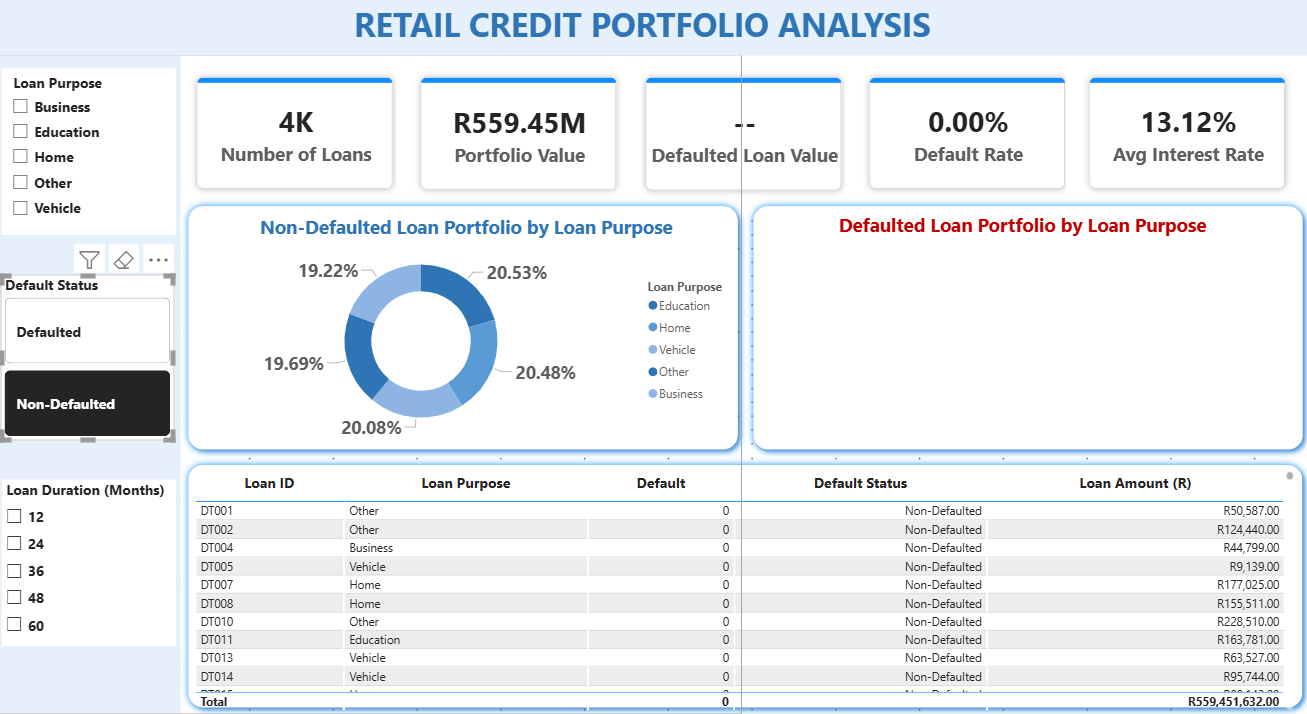

What the dashboard file says about the page in this screenshot:
{"tool":"powerbi","page":{"name":"Summary","canvas":[1500,820],"ordinal":0},"visuals":[{"type":"group","id":"g1","title":"Group 1","box":[199.8,64.9,1300.4,185.6],"z":0},{"type":"cardVisual","fields":{"Data":["Sum(Loan.LoanAmount)"]},"box":[712.7,65,279.9,185.5],"z":0,"group":"g1"},{"type":"cardVisual","fields":{"Data":["CountNonNull(Loan.LoanID)"]},"box":[199.8,65,279.8,183.3],"z":1000,"group":"g1"},{"type":"shape","box":[854.2,229.4,646,296.1],"z":1000},{"type":"cardVisual","fields":{"Data":["Sum(Loan.LoanAmount)"]},"box":[455.5,64.9,279.8,184.9],"z":2000,"group":"g1"},{"type":"shape","box":[208.3,229.4,646,296.1],"z":2000},{"type":"shape","box":[0,0.9,1500,65.5],"z":3000,"group":"g3"},{"type":"cardVisual","fields":{"Data":["Avg(Loan.Default)"]},"box":[968.1,65,279.9,183.9],"z":3000,"group":"g1"},{"type":"cardVisual","fields":{"Data":["Avg(Loan.InterestRate_Decimal)"]},"box":[1220.3,65,279.9,183.9],"z":4000,"group":"g1"},{"type":"donutChart","title":"Non-Defaulted Loan Portfolio by Loan Purpose","fields":{"Category":["Loan.LoanPurpose"],"Y":["CountNonNull(Loan.LoanID)"]},"box":[220.3,247.6,630.4,263.7],"z":4000,"group":"g2"},{"type":"textbox","box":[95,1,1281.2,72.5],"z":5000,"group":"g3"},{"type":"shape","box":[0,65.9,209,754.2],"z":6000,"group":"g2"},{"type":"donutChart","title":"Defaulted Loan Portfolio by Loan Purpose","fields":{"Category":["Loan.LoanPurpose"],"Y":["CountNonNull(Loan.LoanID)"]},"box":[855.5,246,630.4,263.7],"z":7000},{"type":"shape","box":[208.9,525,1291,295.2],"z":8000},{"type":"tableEx","fields":{"Values":["Loan.LoanID","Loan.LoanPurpose","Sum(Loan.Default)","Loan.Default Status","Sum(Loan.LoanAmount)"]},"box":[220,537.6,1265.9,282.7],"z":9000},{"type":"slicer","title":"Loan Purpose","fields":{"Values":["Loan.LoanPurpose"]},"box":[4.2,82.1,199.2,190.8],"z":10000,"group":"g2"},{"type":"advancedSlicerVisual","fields":{"Values":["Loan.Default Status"]},"box":[2.8,317.2,199,190],"z":11000,"group":"g2"},{"type":"listSlicer","fields":{"Values":["Loan.LoanTerm"]},"box":[4.2,551.5,199,190],"z":12000,"group":"g2"},{"type":"group","id":"g2","title":"Group 2","box":[0,65.9,850.7,754.2],"z":12001},{"type":"group","id":"g3","title":"Group 3","box":[0,0.9,1500,72.6],"z":12002}]}

Visuals, with their boxes in screenshot pixels (x1, y1, x2, y2):
"Group 1" group: <region>175, 73, 1293, 232</region>
cardVisual - Sum(Loan.LoanAmount): <region>616, 73, 856, 232</region>
cardVisual - CountNonNull(Loan.LoanID): <region>175, 73, 416, 230</region>
shape: <region>737, 214, 1293, 469</region>
cardVisual - Sum(Loan.LoanAmount): <region>395, 73, 635, 232</region>
shape: <region>182, 214, 737, 469</region>
shape: <region>3, 18, 1292, 74</region>
cardVisual - Avg(Loan.Default): <region>835, 73, 1076, 231</region>
cardVisual - Avg(Loan.InterestRate_Decimal): <region>1052, 73, 1293, 231</region>
"Non-Defaulted Loan Portfolio by Loan Purpose" donutChart: <region>193, 230, 734, 456</region>
textbox: <region>85, 18, 1186, 80</region>
shape: <region>3, 74, 183, 713</region>
"Defaulted Loan Portfolio by Loan Purpose" donutChart: <region>739, 228, 1280, 455</region>
shape: <region>183, 468, 1292, 713</region>
tableEx - Loan.LoanID x Loan.LoanPurpose: <region>192, 479, 1280, 713</region>
"Loan Purpose" slicer: <region>7, 88, 178, 252</region>
advancedSlicerVisual - Loan.Default Status: <region>6, 290, 177, 453</region>
listSlicer - Loan.LoanTerm: <region>7, 491, 178, 654</region>
"Group 2" group: <region>3, 74, 734, 713</region>
"Group 3" group: <region>3, 18, 1292, 80</region>
